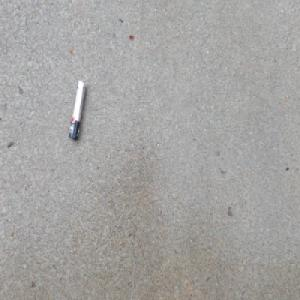Battery: (68, 79, 87, 142)
